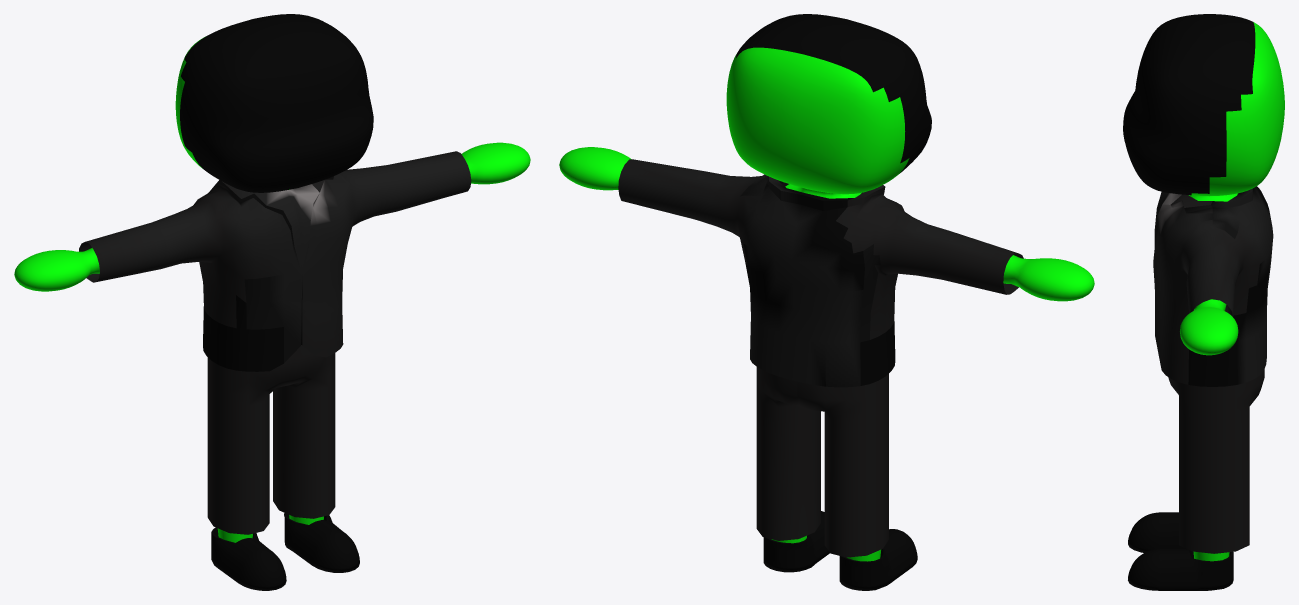
File: testA.fbx
3 views of the same model, side by side, from view 1: azimuth 30°, elevation 25°; view 2: azimuth 150°, elevation 25°; view 3: azimuth 270°, elevation 25° (orthographic). The views are drawn at different scales.
Visible parts, largest first — view 1: pCylinder8; view 2: pCylinder8; view 3: pCylinder8.
Part boxes in pixels (x1,y1,x2,y2): pCylinder8: (14, 14, 530, 590); pCylinder8: (559, 14, 1094, 590); pCylinder8: (1123, 14, 1284, 590).
Bounding box in the file's own units: 195 × 192 × 52.86.
